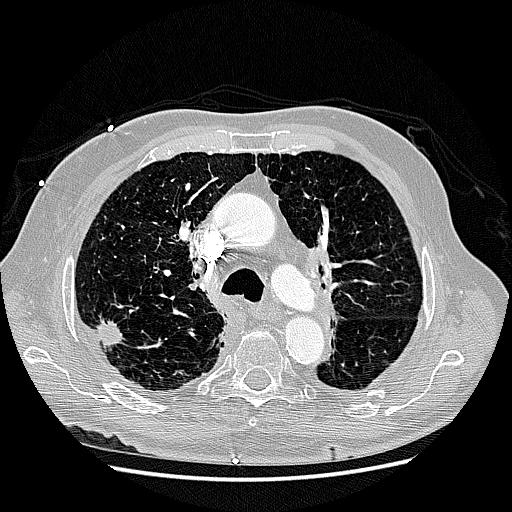nodule: (93, 318, 123, 348)
